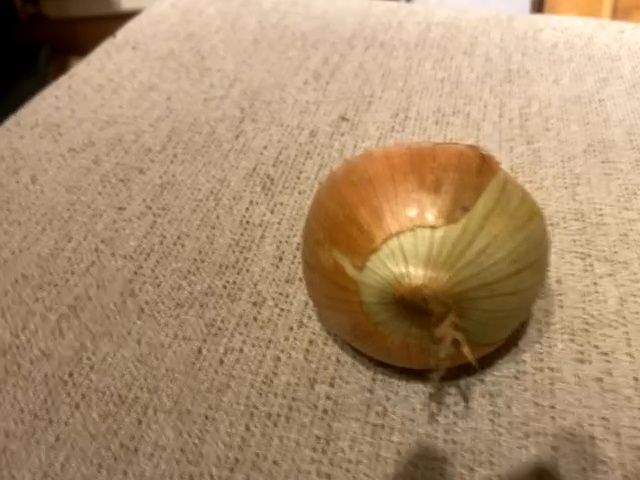onion: (297, 130, 556, 380)
